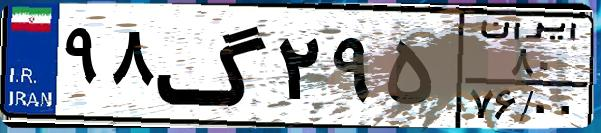0: (560, 70, 590, 125), (537, 27, 568, 80), (535, 70, 560, 125)
2: (270, 28, 330, 110)
5: (385, 28, 445, 110)
6: (495, 70, 520, 125)
7: (470, 70, 495, 125)
8: (110, 28, 156, 98), (508, 27, 537, 80)
9: (330, 28, 385, 110), (57, 26, 110, 100)
گ: (156, 12, 270, 120)
